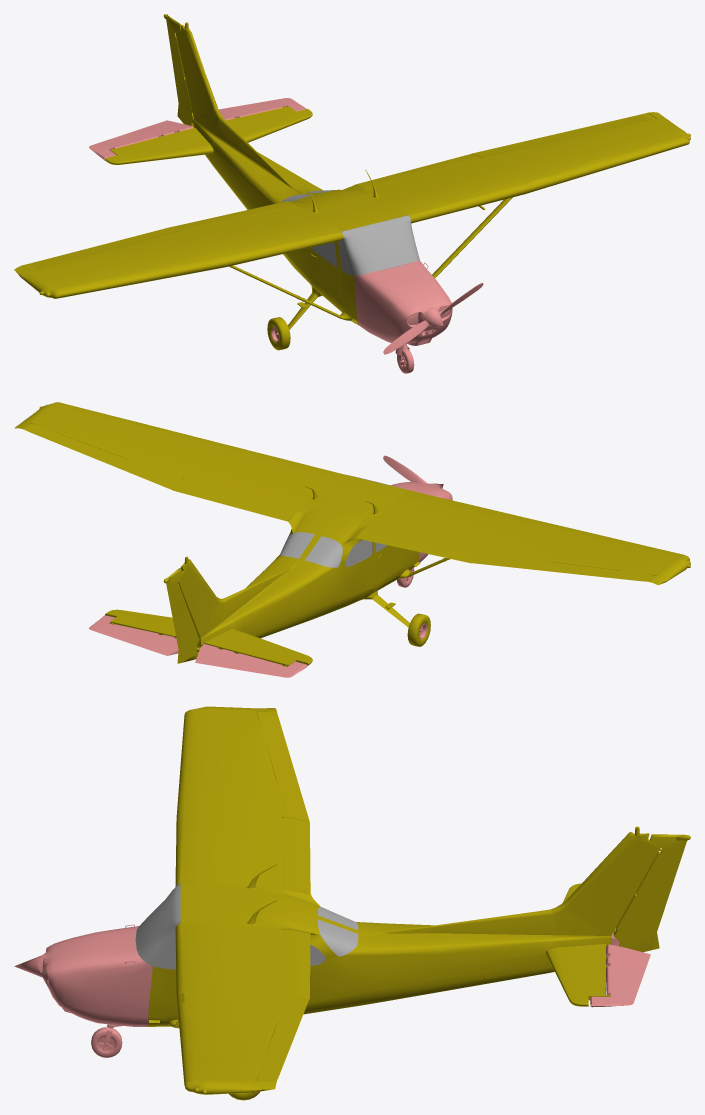
Rendered from uploads_files_2008537_cessna+172.fbx.
3 renders of one model, top to bottom at view 1: azimuth 30°, elevation 25°; view 2: azimuth 150°, elevation 25°; view 3: azimuth 270°, elevation 25°, orthographic. The views are drawn at different scales.
Visible parts, largest first — view 1: fuselage, front_part, glass; view 2: fuselage, front_part, glass; view 3: fuselage, front_part, glass.
Part boxes in pixels (x1,y1,x2,y2): fuselage: (14, 14, 690, 350); front_part: (89, 98, 483, 373); glass: (281, 190, 419, 275); fuselage: (14, 402, 690, 666); front_part: (89, 455, 452, 677); glass: (280, 474, 405, 567); fuselage: (147, 706, 690, 1100); front_part: (14, 924, 650, 1057); glass: (135, 884, 358, 969).
Bounding box in the file's own units: 439 × 122 × 326.
